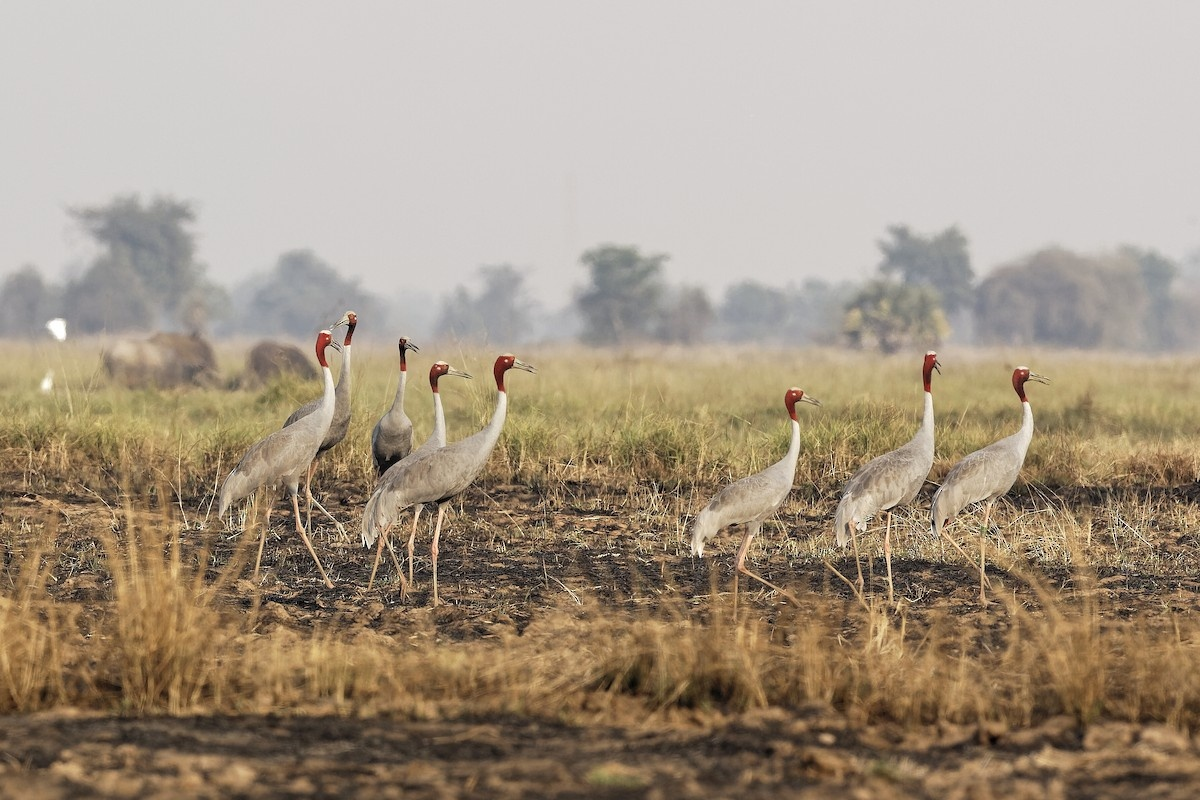crane: (377, 345, 547, 594), (223, 327, 345, 565), (689, 384, 826, 579), (930, 358, 1059, 551), (841, 351, 955, 556), (376, 329, 424, 462), (420, 353, 483, 449), (331, 310, 366, 411)
